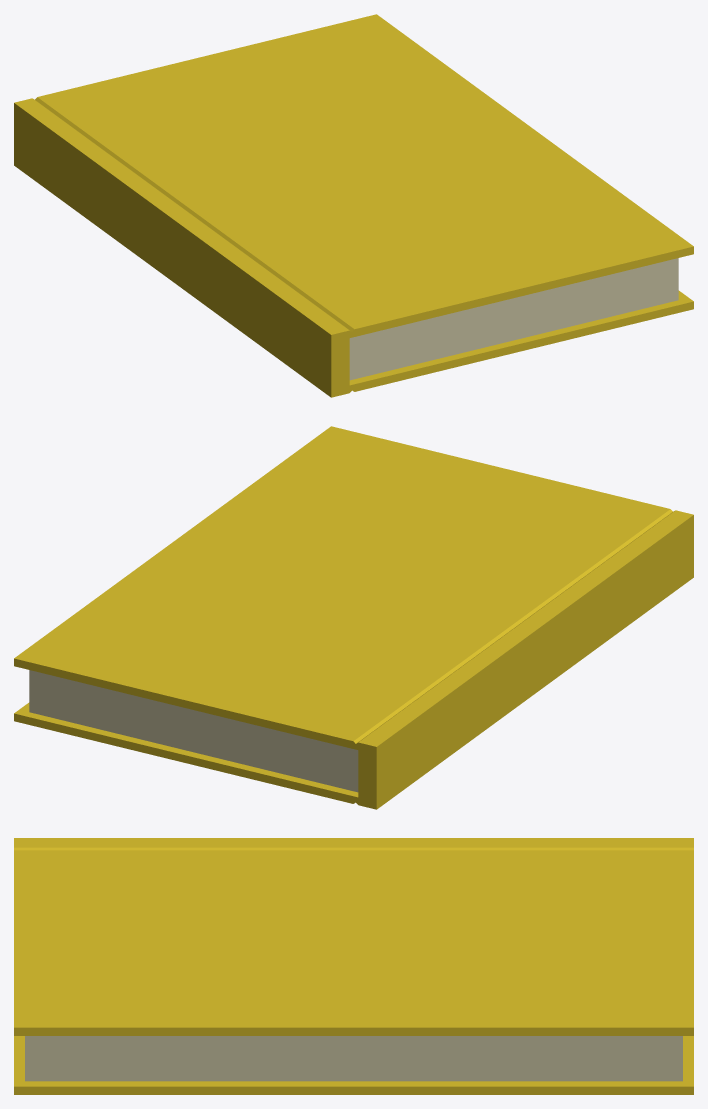
The model's file is Book_Survive_mat.fbx.
3 renders of one model, top to bottom at view 1: azimuth 30°, elevation 25°; view 2: azimuth 150°, elevation 25°; view 3: azimuth 270°, elevation 25°, orthographic. The views are drawn at different scales.
Visible parts, largest first — view 1: Book_Survive_mat; view 2: Book_Survive_mat; view 3: Book_Survive_mat.
Part boxes in pixels (<box>): Book_Survive_mat: <box>14,14,693,397</box>; Book_Survive_mat: <box>14,426,693,809</box>; Book_Survive_mat: <box>14,838,693,1094</box>.
Size of the model in its own units: 11.52 by 1.91 by 17.45.
